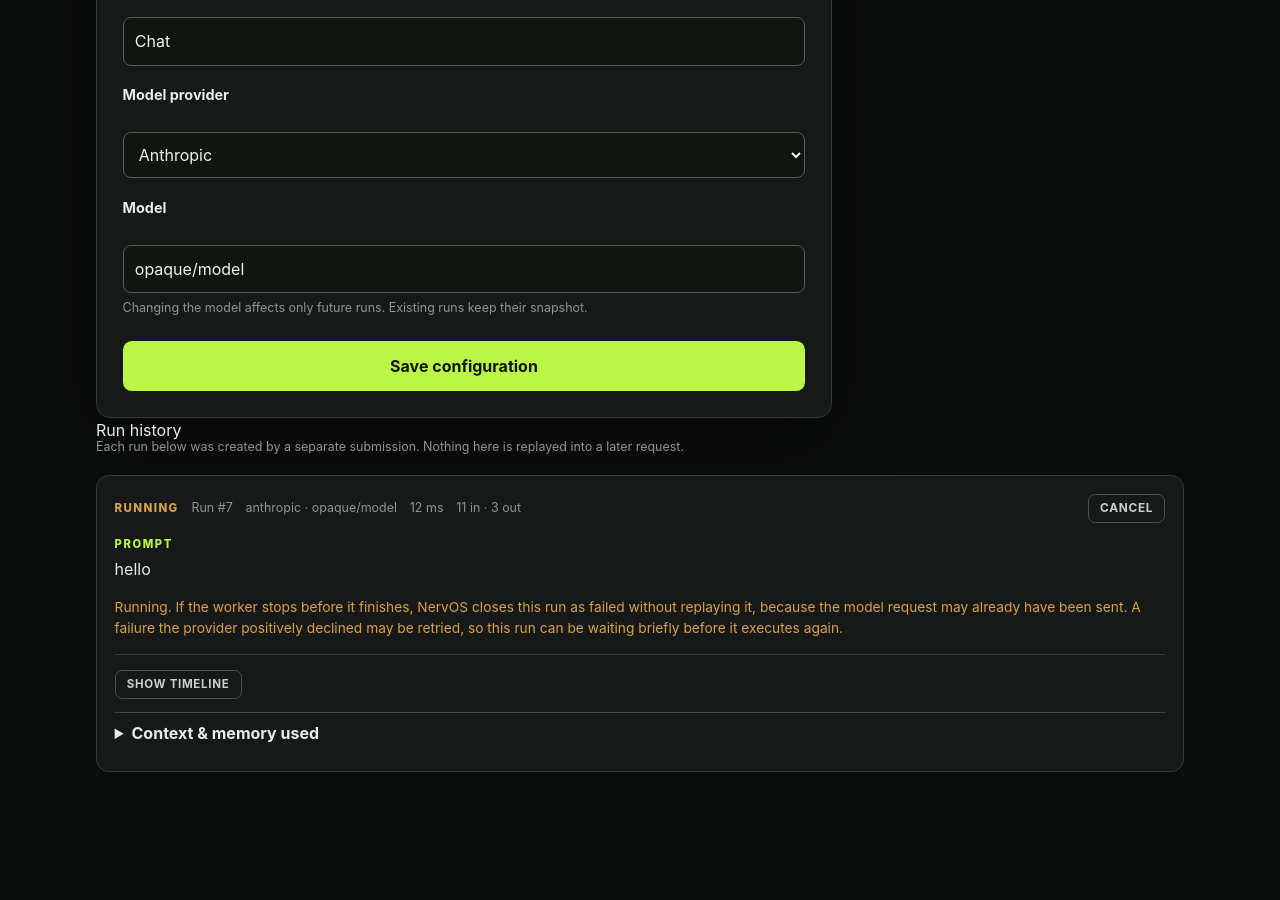
Test: agent detail page cancellation › cancels a running run through the server and shows the durable result
(page scrolled)
Click the button "Cancel" at (1127, 509), box [1088,494,1165,523]
(page scrolled)
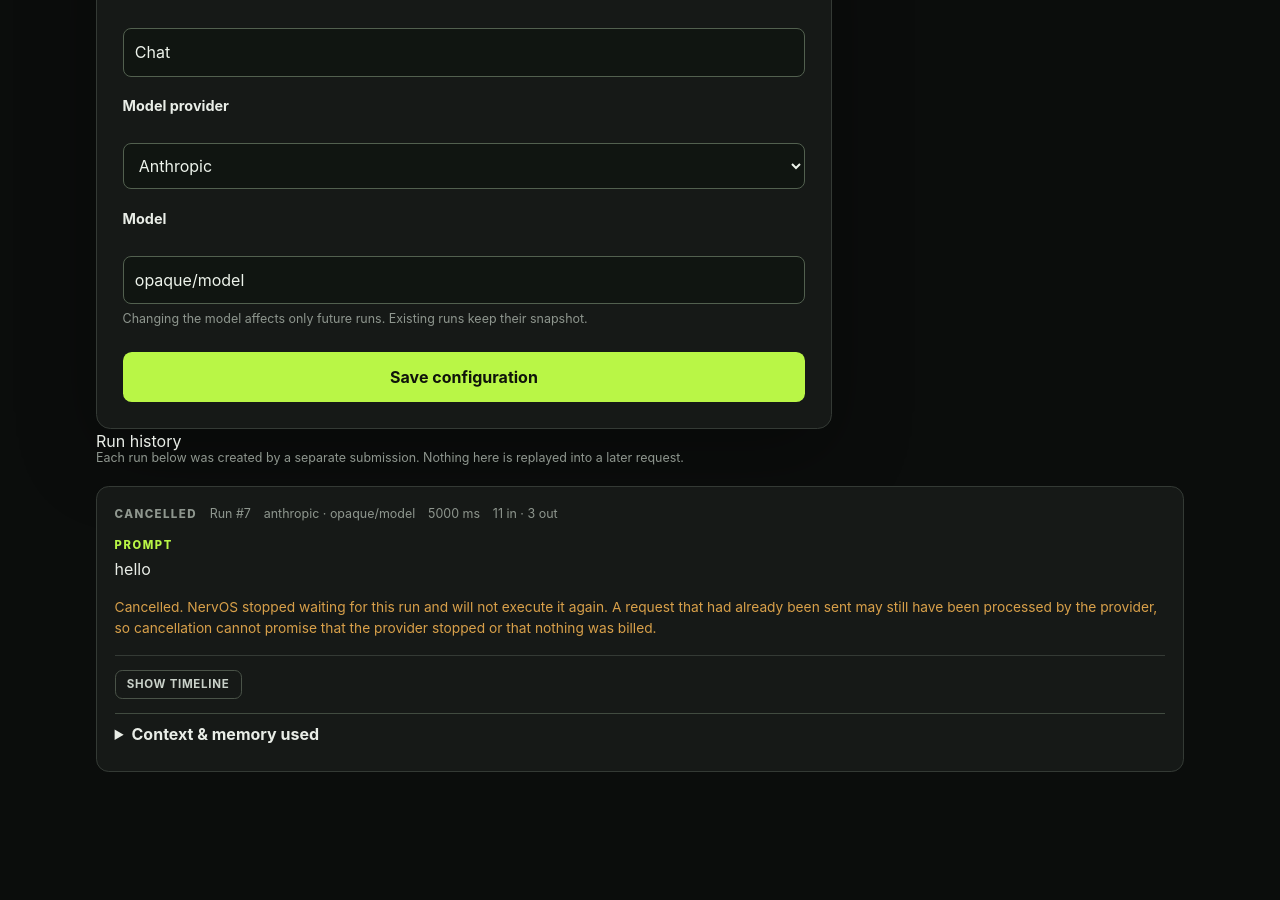
Now the text "Cancelled" is shown, box [115,506,197,523]
